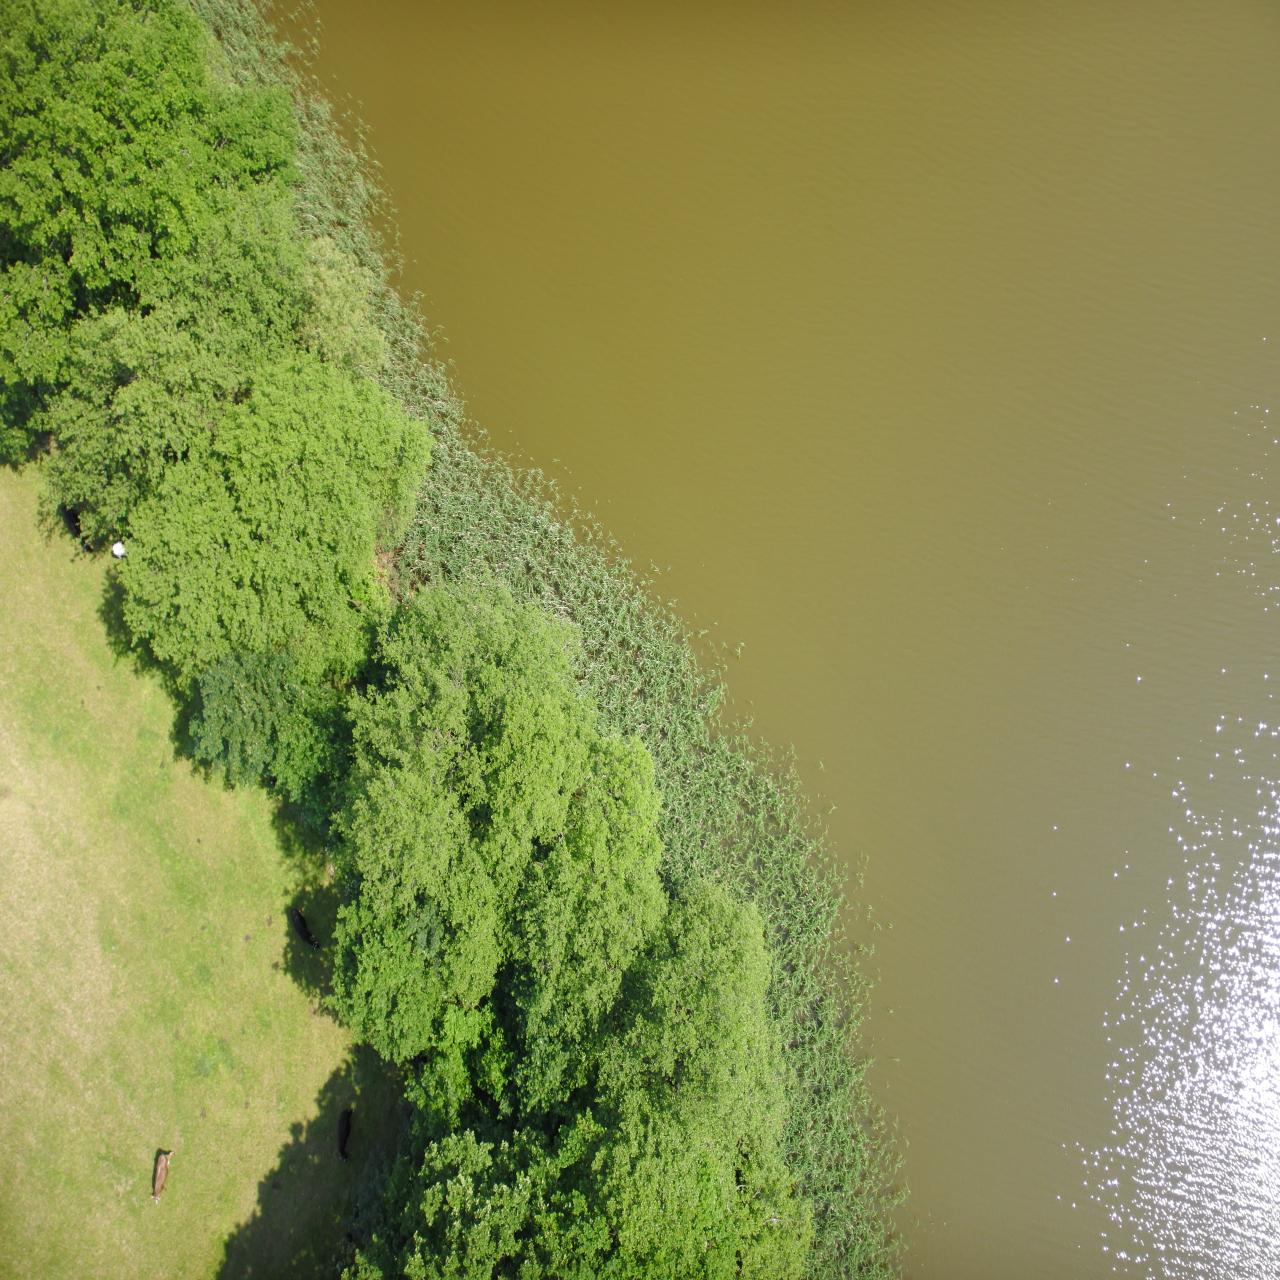cow: (1105, 76, 1129, 130)
